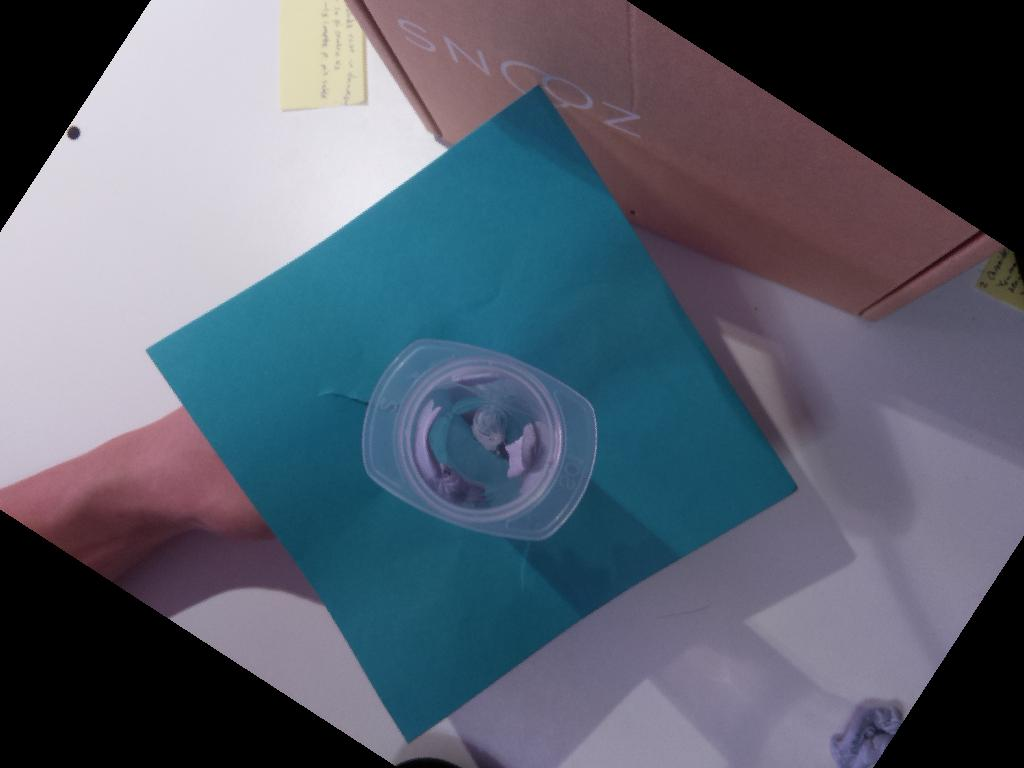dirty: (354, 332, 607, 546)
